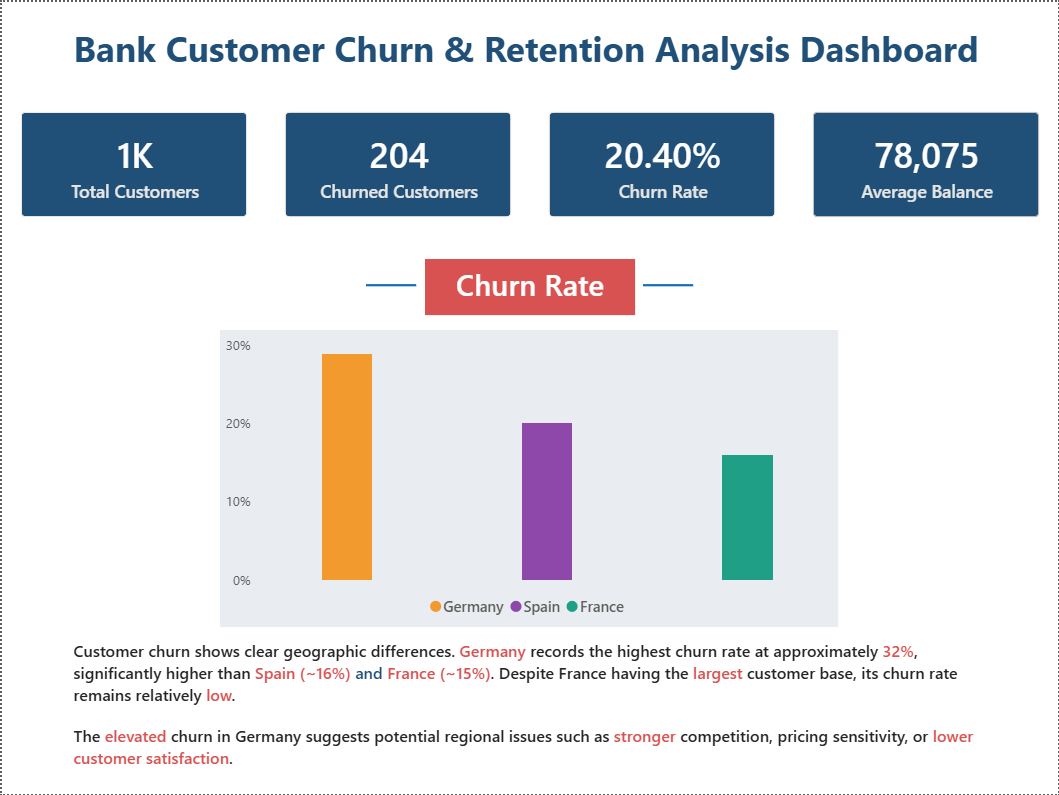

The page's visual inventory and layout, read from the dashboard file:
{"tool":"powerbi","page":{"name":"Churn Rate","canvas":[960,720],"ordinal":0},"visuals":[{"type":"cardVisual","fields":{"Data":["Bank_Total_data.Total Customers"]},"box":[0,82.8,240,130],"z":0},{"type":"cardVisual","fields":{"Data":["churn_gender.Churned Customers"]},"box":[240,82.8,240,130],"z":1000},{"type":"cardVisual","fields":{"Data":["churn_gender.Churn Rate"]},"box":[480,82.8,240,130],"z":2000},{"type":"cardVisual","fields":{"Data":["Bank_Total_data.Average Balance"]},"box":[720,82.8,240,130],"z":3000},{"type":"clusteredColumnChart","fields":{"Category":["Bank_Total_data.Geography"],"Y":["churn_gender.Churn Rate"],"Series":["Bank_Total_data.Geography"]},"box":[198.6,298.3,562,270.4],"z":4000},{"type":"textbox","box":[60,14.4,840,55.8],"z":5000},{"type":"textbox","box":[384.5,234.1,191,50.7],"z":6000},{"type":"shape","box":[331.3,229.9,45.6,54.9],"z":7000},{"type":"shape","box":[583.1,229.9,45.6,54.9],"z":8000},{"type":"textbox","box":[60,574.6,840,135.2],"z":9000}]}

Visuals, with their boxes in screenshot pixels (x1, y1, x2, y2), scaled from the page's 960x720 canvas onto the 1059x795 screenshot:
cardVisual - Bank_Total_data.Total Customers: (x1=0, y1=91, x2=265, y2=235)
cardVisual - churn_gender.Churned Customers: (x1=265, y1=91, x2=530, y2=235)
cardVisual - churn_gender.Churn Rate: (x1=530, y1=91, x2=794, y2=235)
cardVisual - Bank_Total_data.Average Balance: (x1=794, y1=91, x2=1058, y2=235)
clusteredColumnChart - Bank_Total_data.Geography x churn_gender.Churn Rate: (x1=219, y1=329, x2=839, y2=628)
textbox: (x1=66, y1=16, x2=993, y2=78)
textbox: (x1=424, y1=258, x2=635, y2=314)
shape: (x1=365, y1=254, x2=416, y2=314)
shape: (x1=643, y1=254, x2=694, y2=314)
textbox: (x1=66, y1=634, x2=993, y2=784)
